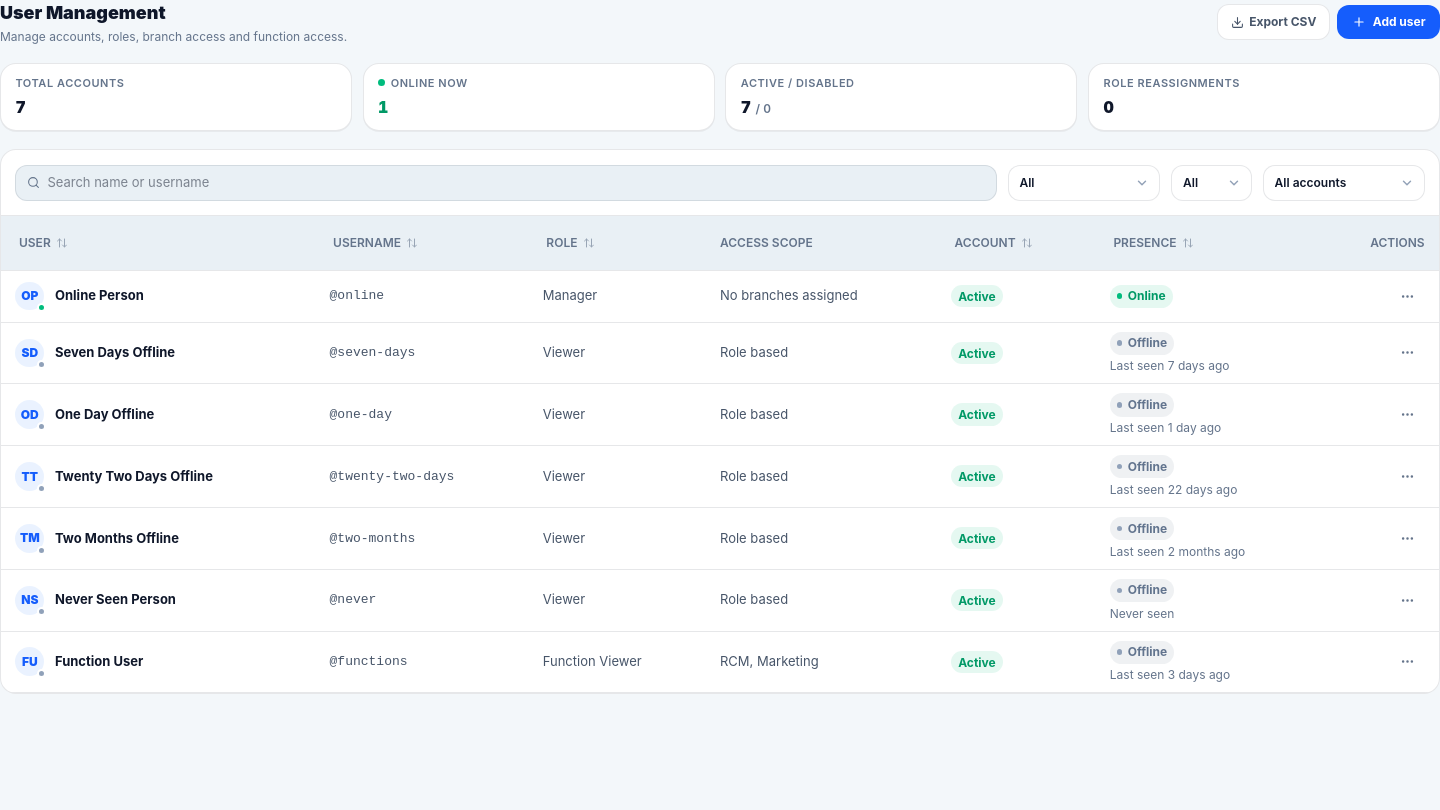
Scenario: requires confirmation before deleting a user and reports success
The width and height of the screenshot is (1440, 810).
Click the button named "Actions for Seven Days Offline" at (1409, 353), box [1393,337,1425,369]
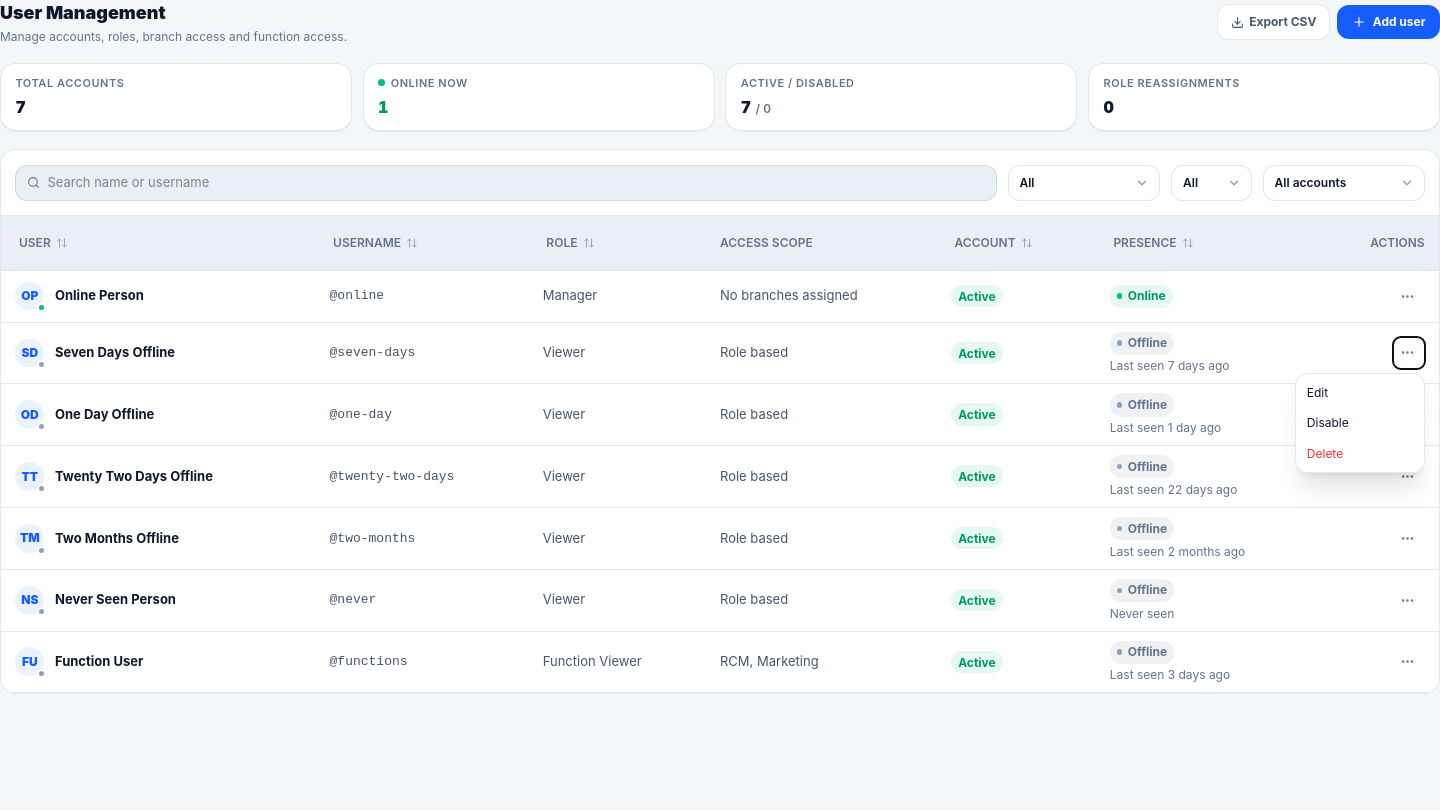
Click the button "Delete" at (1360, 454), box [1296,438,1424,469]
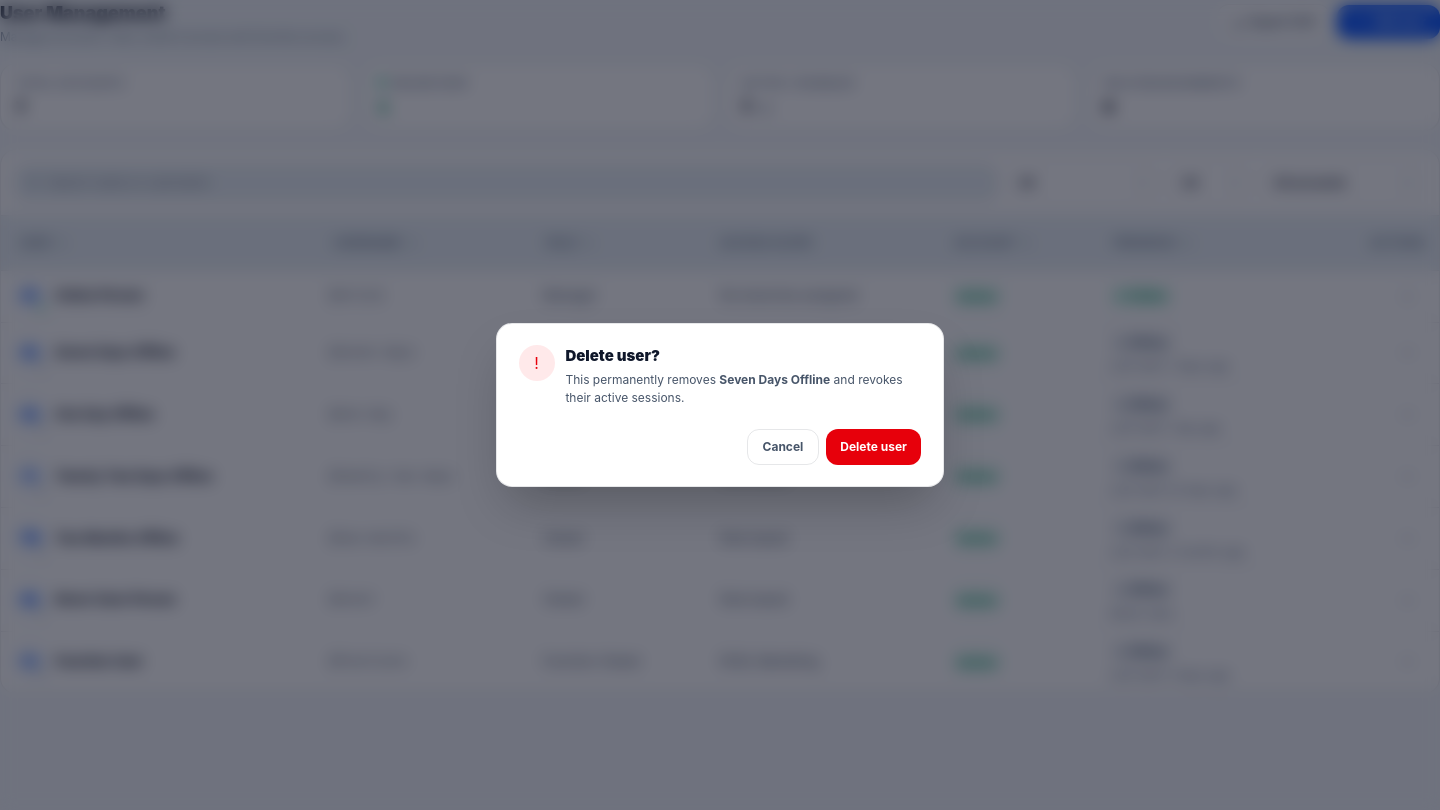
Expected: the dialog "Delete user?" is shown, [496,323,944,488]
Click the button "Delete user" at (874, 447), box [826,429,921,465]
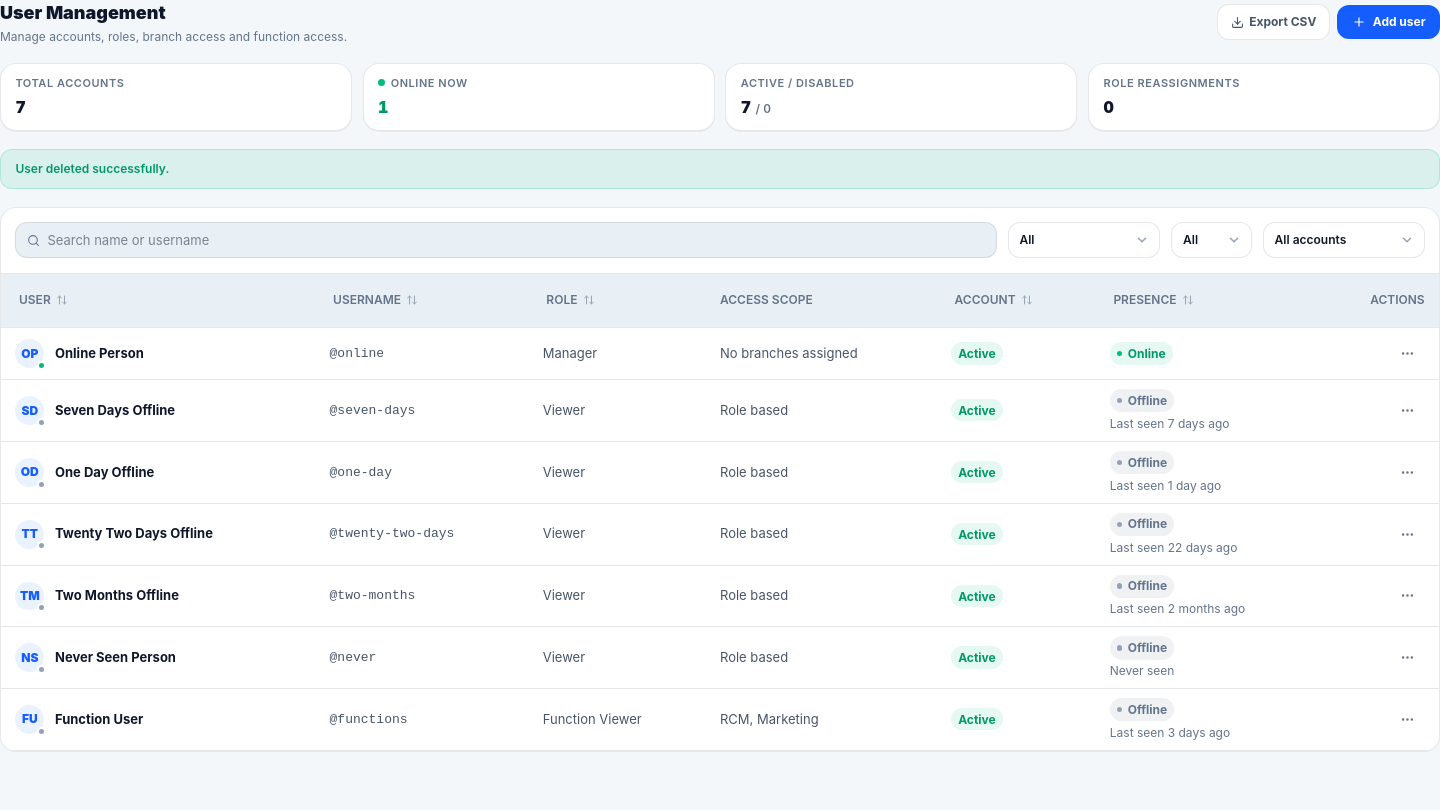
Expected: the message reads "User deleted successfully.", [15,161,169,176]
